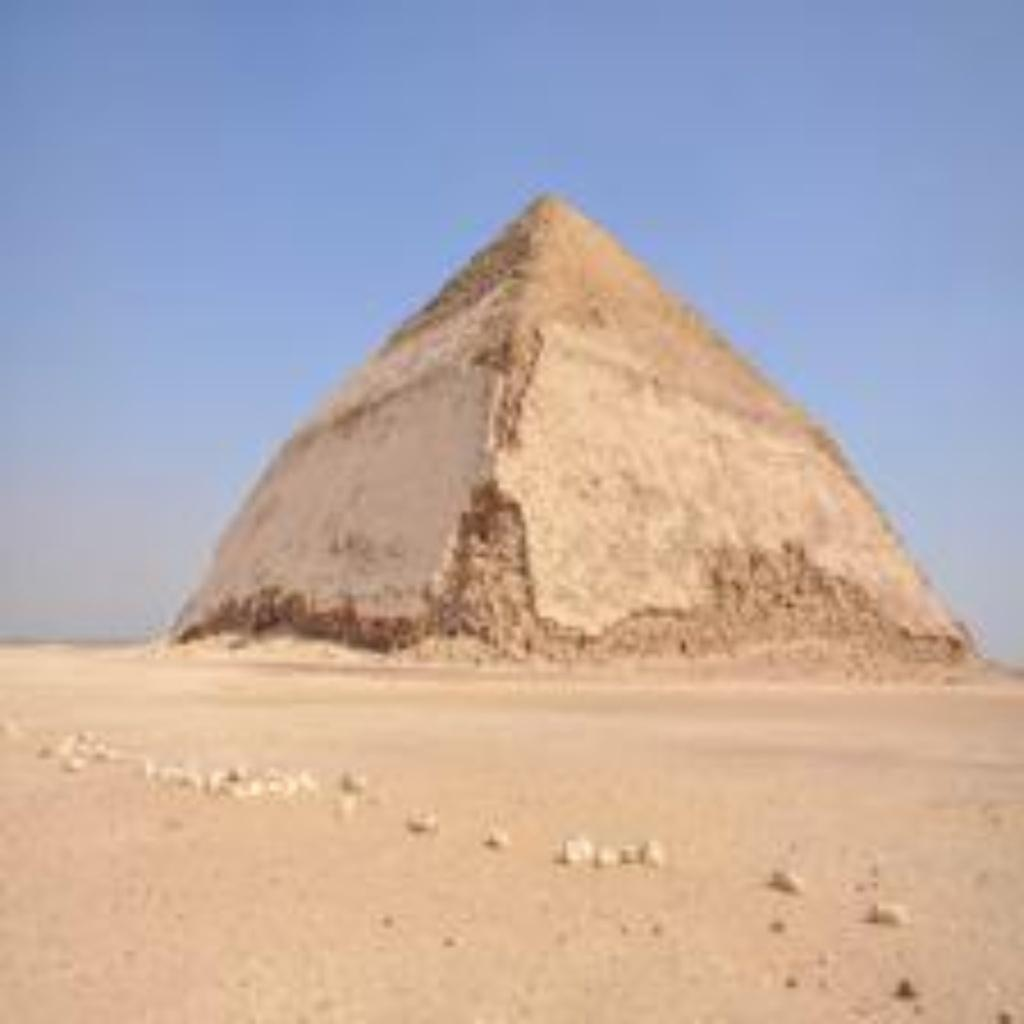Bent Pyramid of King Sneferu: (156, 183, 988, 681)
